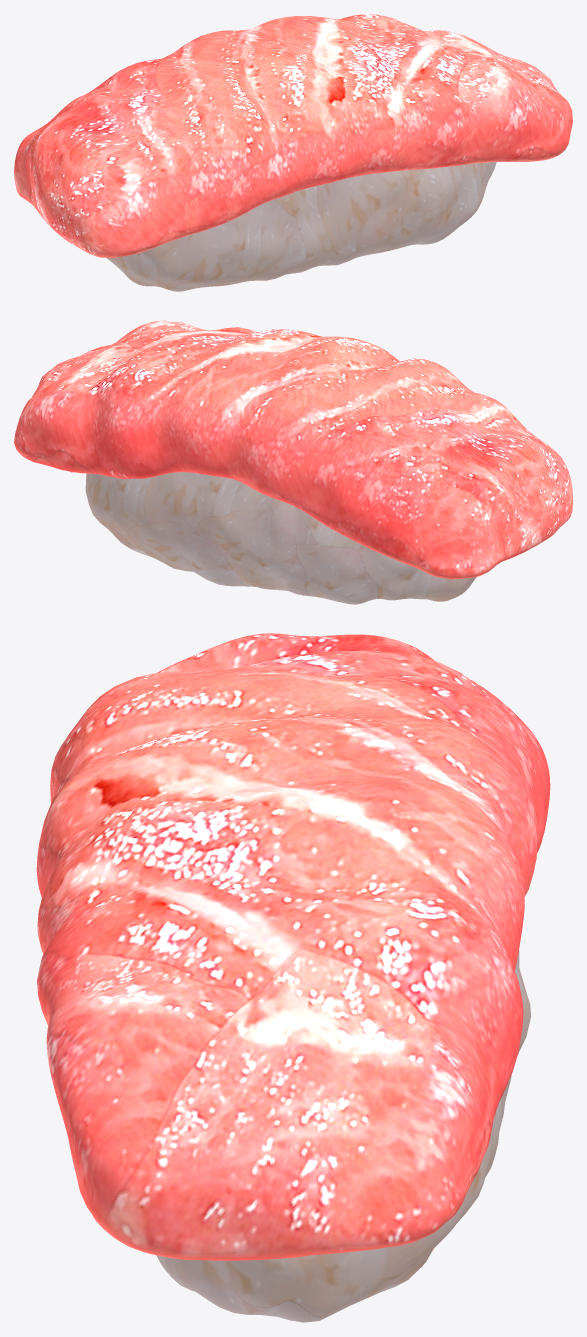
File: sushi.glb
3 views of the same model, one above another, from view 1: azimuth 30°, elevation 25°; view 2: azimuth 150°, elevation 25°; view 3: azimuth 270°, elevation 25° (orthographic). The views are drawn at different scales.
Visible parts, largest first — view 1: neta11_0, sumeshi11_1; view 2: neta11_0, sumeshi11_1; view 3: neta11_0, sumeshi11_1.
Boxes of the visible parts, box(x1,y1,x2,y2) form: neta11_0: box(14, 14, 572, 257); sumeshi11_1: box(106, 162, 496, 291); neta11_0: box(14, 320, 572, 579); sumeshi11_1: box(85, 472, 476, 604); neta11_0: box(36, 633, 550, 1260); sumeshi11_1: box(156, 950, 530, 1322).
Bounding box in the file's own units: 0.1275 × 0.0529 × 0.0573.
Materials: 2 (2 with a texture image).
